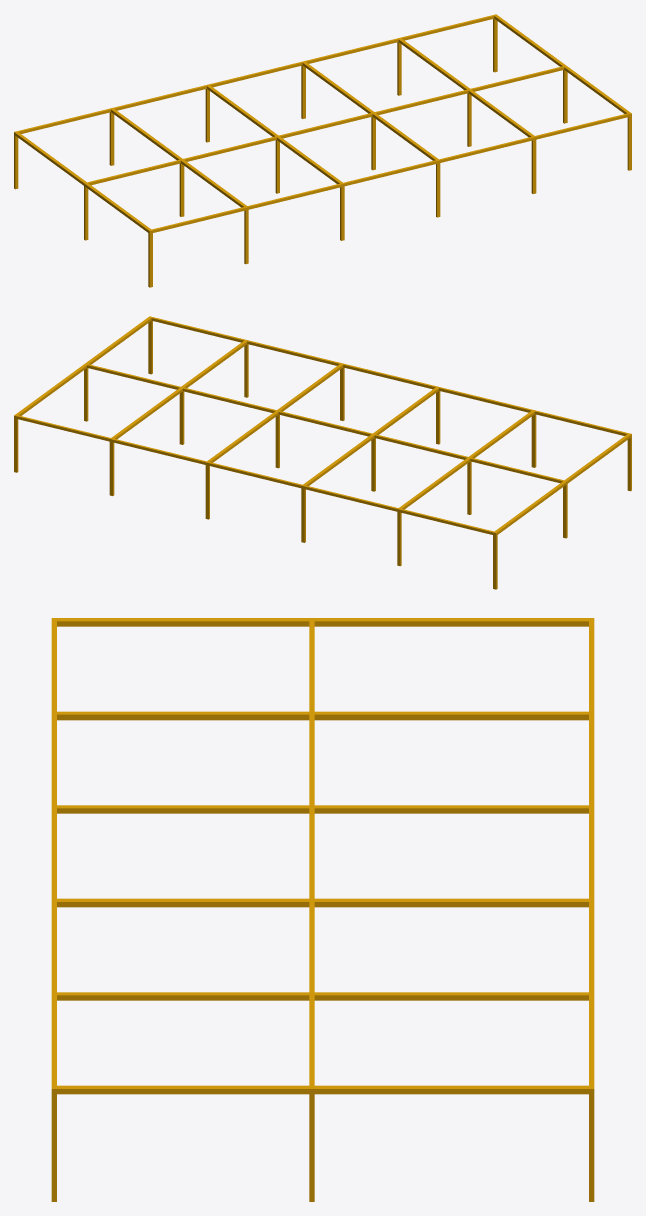
File: PlumbingElectricalRack.fbx
3 renders of one model, top to bottom at view 1: azimuth 30°, elevation 25°; view 2: azimuth 150°, elevation 25°; view 3: azimuth 270°, elevation 25°, orthographic. The views are drawn at different scales.
Parts seen in each view (by area): view 1: RoughPlumbElectricalRack; view 2: RoughPlumbElectricalRack; view 3: RoughPlumbElectricalRack.
Boxes of the visible parts, <box> form: RoughPlumbElectricalRack: <box>14,14,631,287</box>; RoughPlumbElectricalRack: <box>14,316,631,589</box>; RoughPlumbElectricalRack: <box>51,618,594,1201</box>.
Bounding box in the file's own units: 2175 × 243 × 1060.
